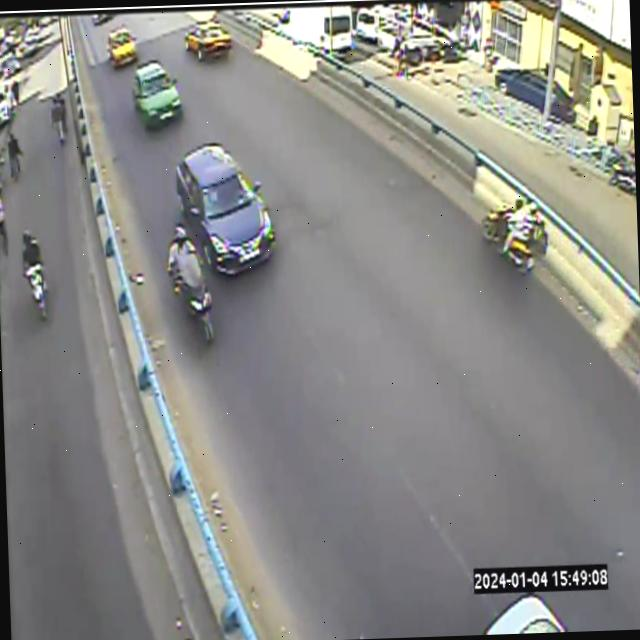car: (175, 142, 274, 274), (279, 4, 354, 53), (132, 59, 182, 128), (485, 594, 565, 631), (185, 19, 232, 60), (107, 26, 137, 66)
